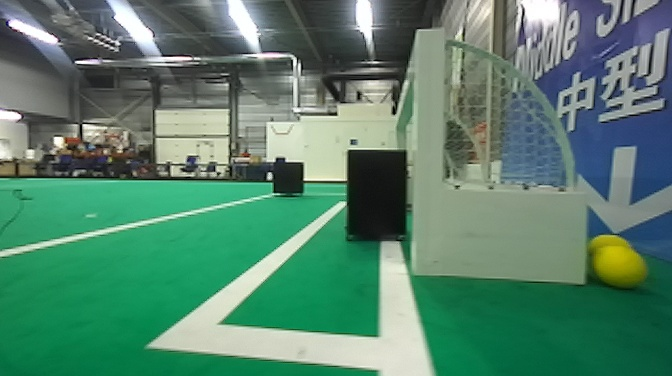ball: (595, 246, 644, 291), (589, 230, 630, 272)
goalpost: (416, 30, 447, 275), (392, 124, 408, 150)
